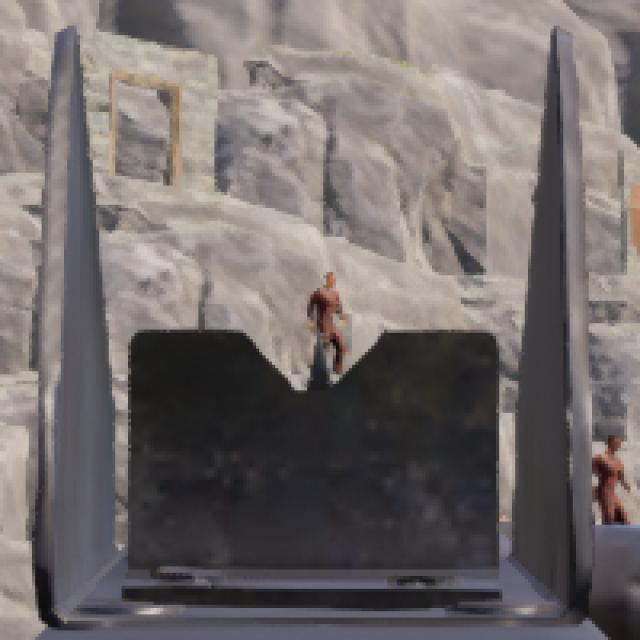Player: (308, 271, 347, 372), (595, 435, 632, 524)
